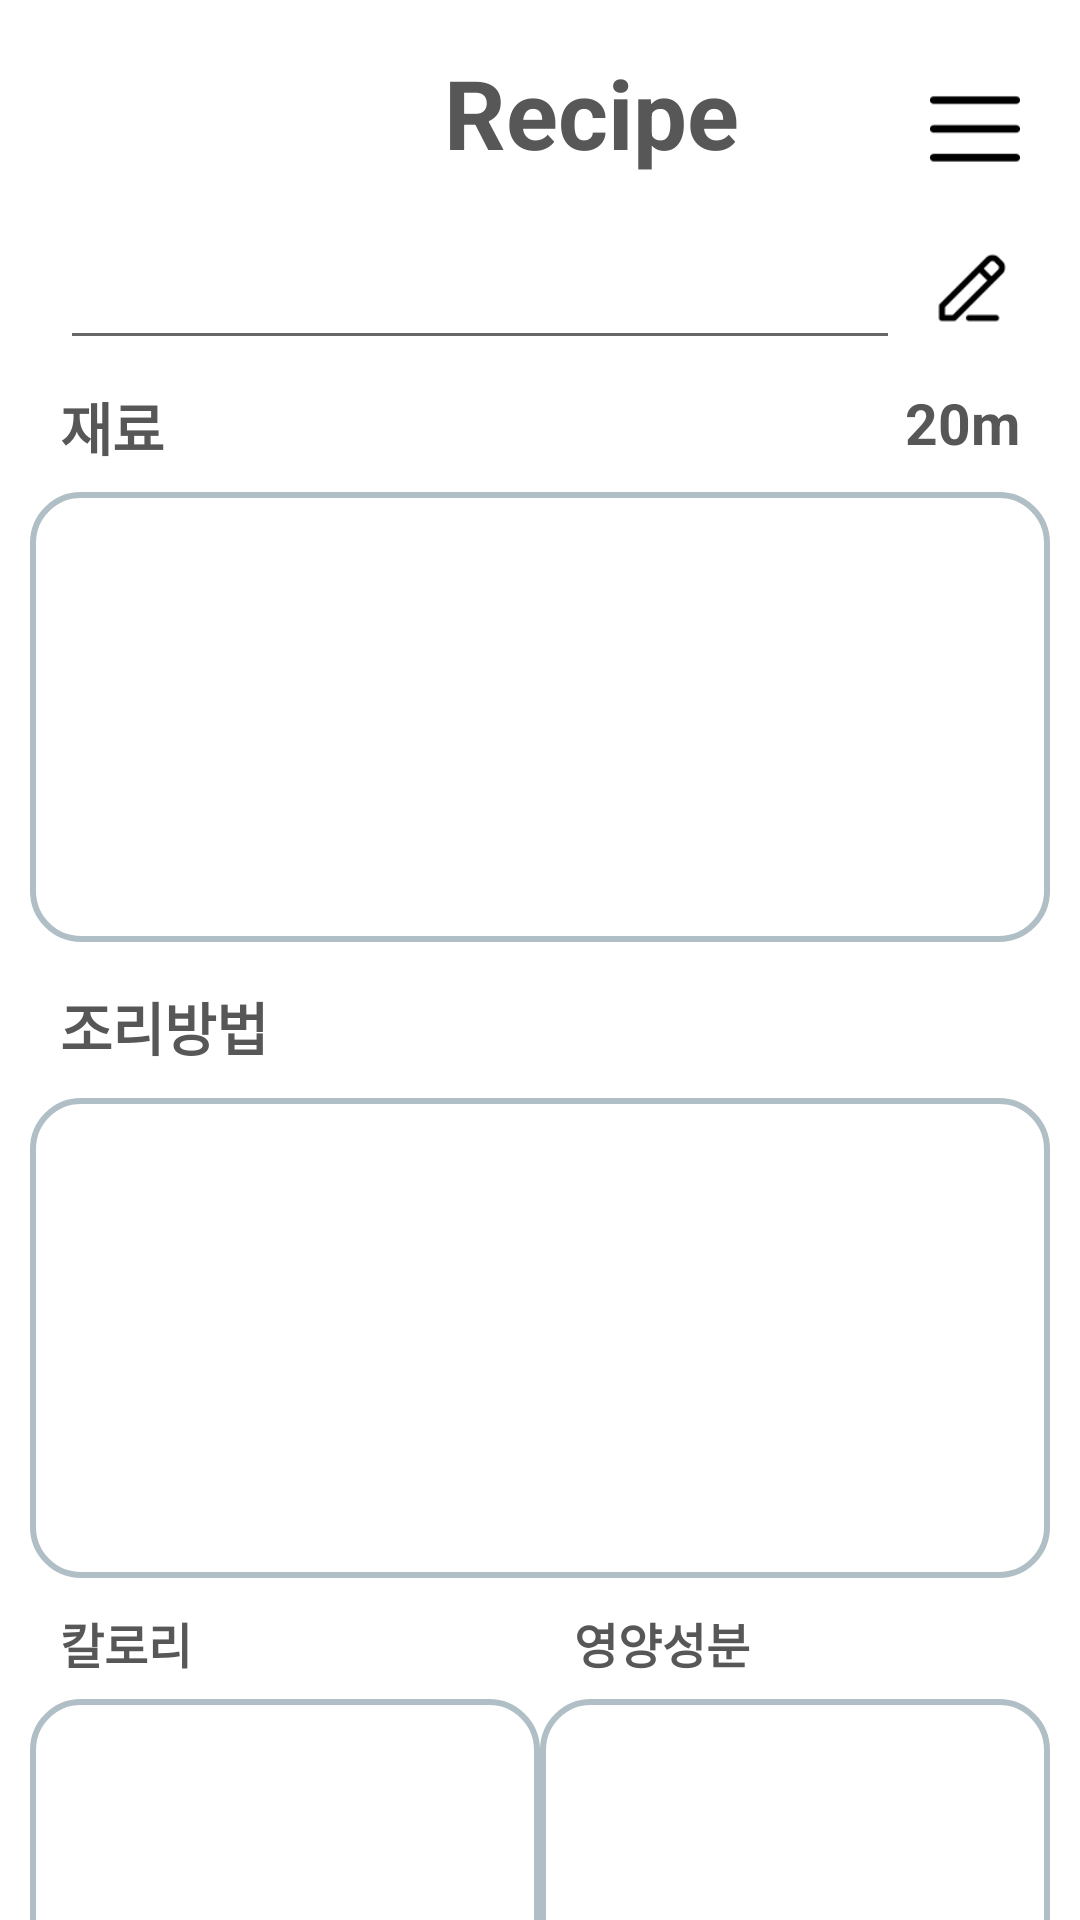

Icons on this 1080x1920 Android screen, each with its box as [x1,y1,x2,y2]:
Edit: [938,254,1006,322]
